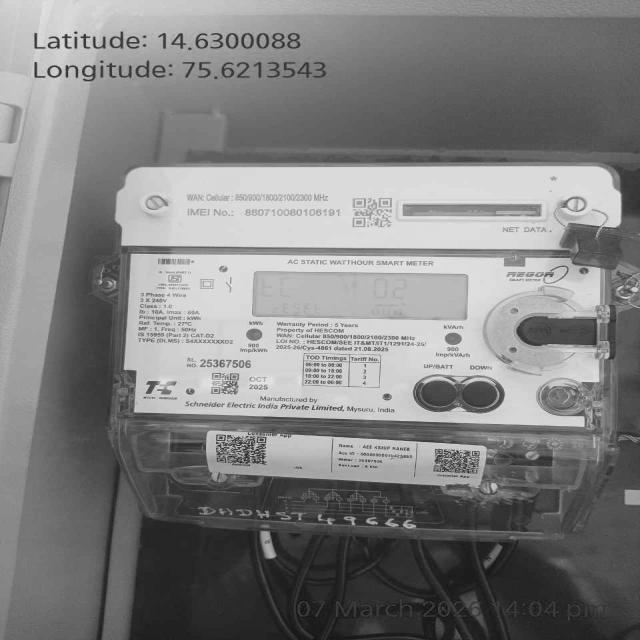meter: (111, 165, 618, 487)
